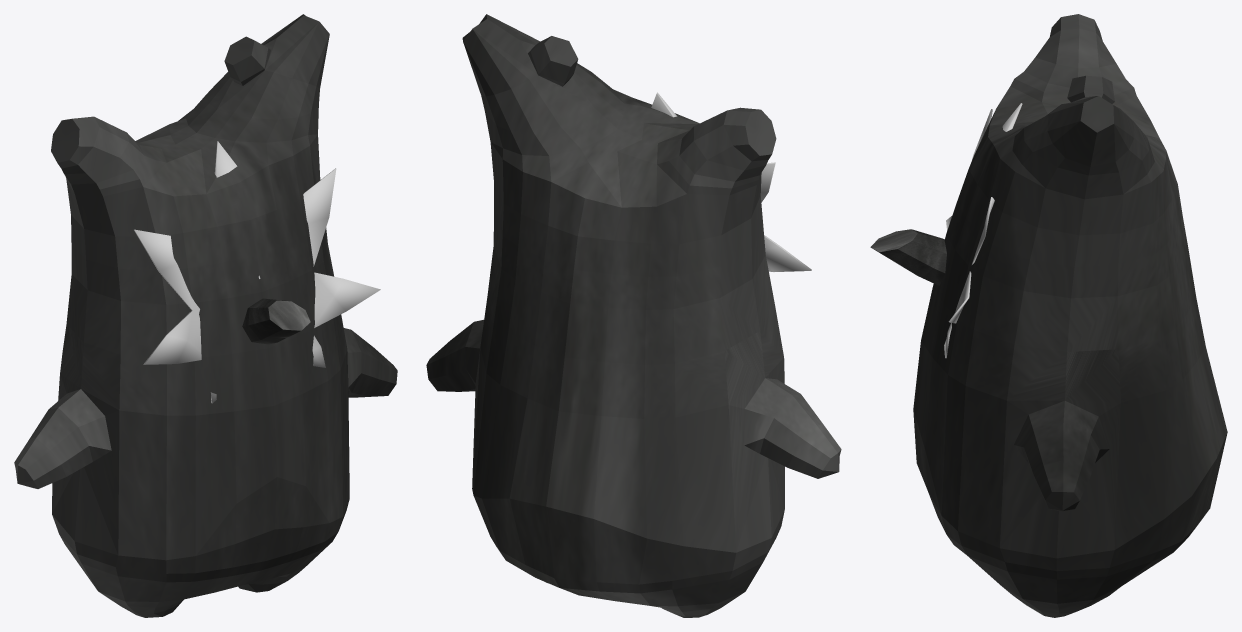
File: frame_0076.obj
3 views of the same model, side by side, from view 1: azimuth 30°, elevation 25°; view 2: azimuth 150°, elevation 25°; view 3: azimuth 270°, elevation 25° (orthographic). The views are drawn at different scales.
Parts seen in each view (by area): view 1: korok, leaf, nose; view 2: korok, leaf; view 3: korok, nose, leaf.
Boxes of the visible parts, bbox=[...] form: korok: bbox=[14, 14, 397, 617]; leaf: bbox=[134, 141, 380, 403]; nose: bbox=[242, 298, 310, 344]; korok: bbox=[426, 14, 841, 617]; leaf: bbox=[651, 92, 811, 271]; korok: bbox=[913, 14, 1227, 617]; nose: bbox=[870, 229, 946, 285]; leaf: bbox=[944, 103, 1022, 358].
Bounding box in the file's own units: 1.67 × 2.26 × 1.33.
